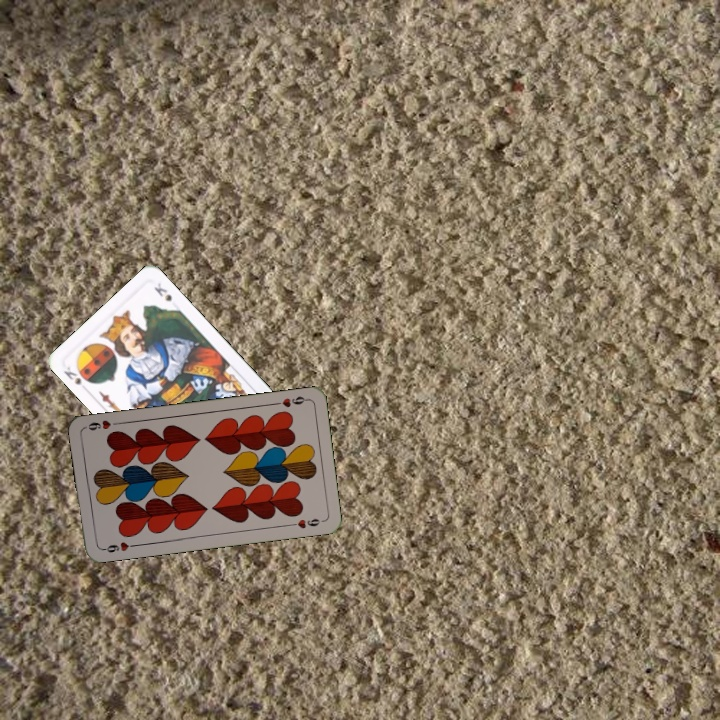H9: (270, 392, 310, 410), (98, 538, 138, 555)
SK: (60, 363, 84, 387)
